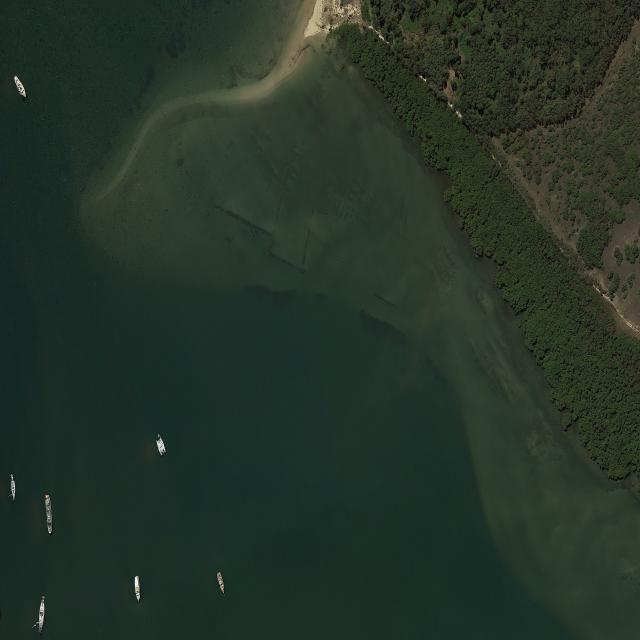ship: (32, 600, 46, 634), (44, 494, 52, 534), (13, 74, 26, 98), (216, 572, 225, 598), (134, 574, 141, 604), (156, 436, 166, 456), (8, 479, 16, 501), (10, 473, 13, 479), (41, 595, 45, 599), (158, 433, 160, 438)
